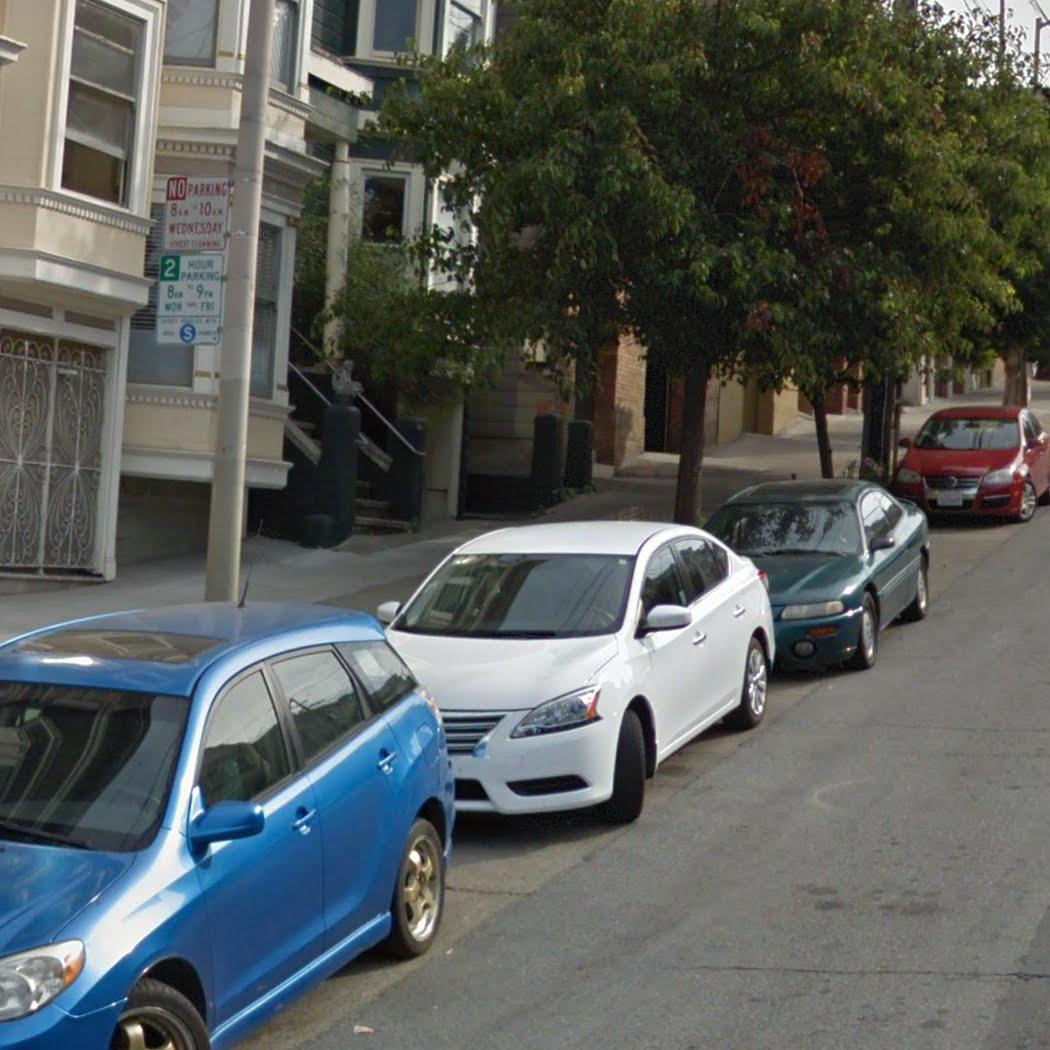2 Hour Parking: (154, 252, 227, 348)
No Parking: (160, 173, 232, 255)
